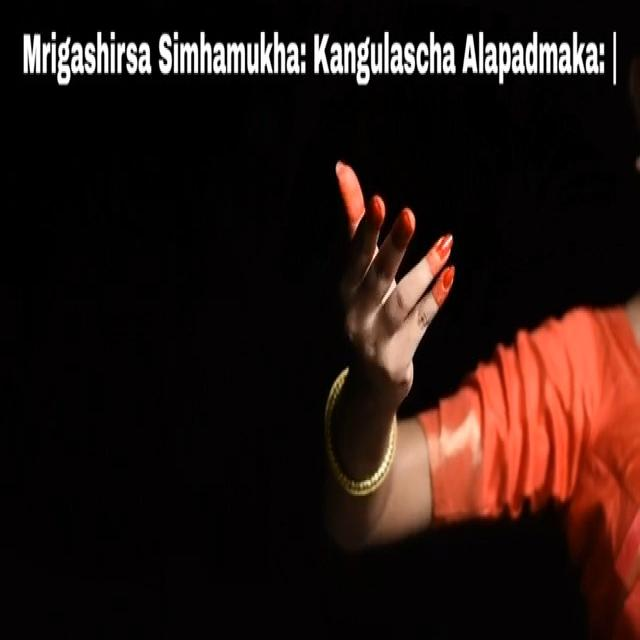Alapadma: (309, 136, 476, 405)
bangle: (308, 384, 410, 510)
text: (16, 15, 622, 96)
